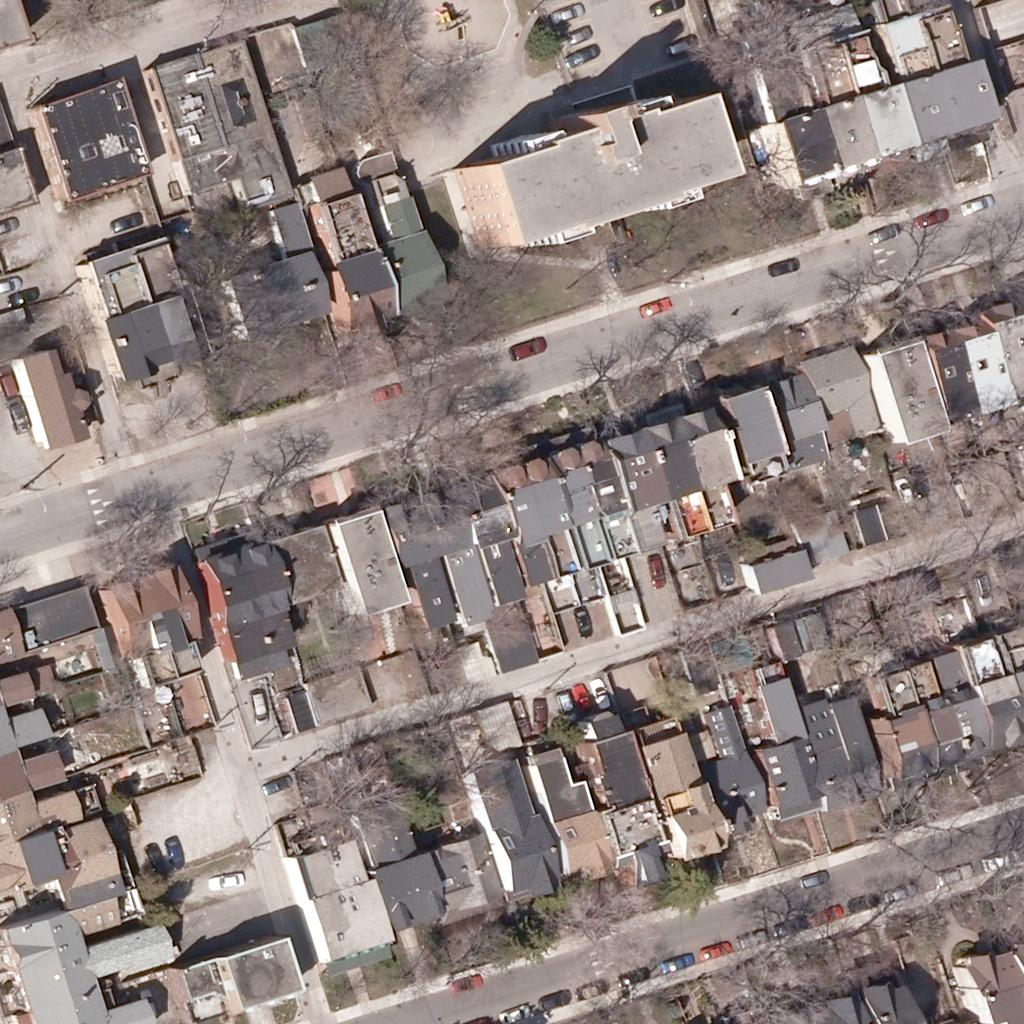car: (557, 17, 591, 51), (663, 27, 697, 61), (567, 36, 601, 70), (959, 187, 993, 221), (912, 200, 946, 234), (106, 205, 140, 239), (867, 214, 901, 248), (763, 250, 797, 284), (3, 278, 37, 312), (635, 291, 669, 325), (509, 333, 543, 367), (679, 356, 713, 390), (362, 376, 396, 410), (1, 397, 35, 431), (903, 457, 937, 491), (888, 473, 922, 507), (639, 548, 673, 582), (708, 550, 742, 584), (967, 569, 1001, 603), (565, 603, 599, 637), (583, 677, 617, 711), (563, 680, 597, 714), (548, 690, 582, 724), (241, 692, 275, 726), (522, 696, 556, 730), (502, 701, 536, 735), (256, 766, 290, 800), (158, 834, 192, 868), (138, 842, 172, 876), (988, 842, 1022, 876), (939, 857, 973, 891), (796, 862, 830, 896), (210, 864, 244, 898), (881, 876, 915, 910), (845, 885, 879, 919), (807, 898, 841, 932), (774, 909, 808, 943), (733, 921, 767, 955), (696, 933, 730, 967), (661, 945, 695, 979), (617, 958, 651, 992), (447, 967, 481, 1001), (572, 972, 606, 1006), (130, 979, 164, 1013), (534, 983, 568, 1017), (551, 0, 585, 31), (499, 998, 533, 1024), (0, 363, 23, 397), (649, 0, 683, 21), (0, 270, 18, 304)
